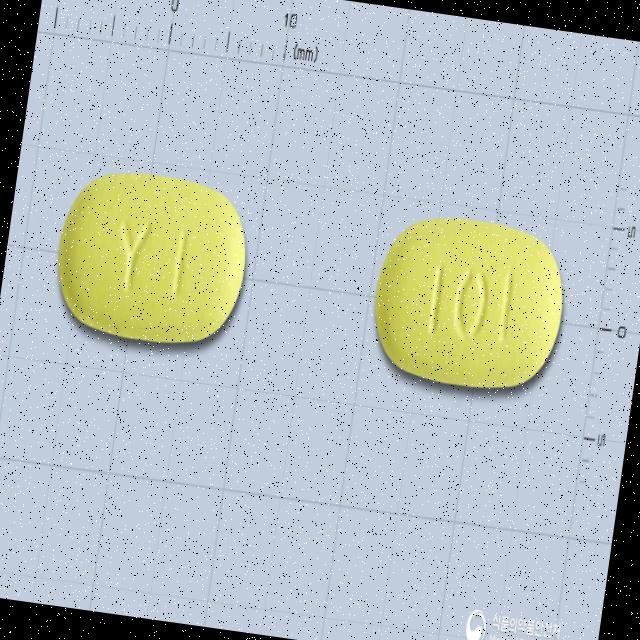Youngil Clarithromycin Tab: (48, 162, 256, 354), (365, 210, 574, 398)
